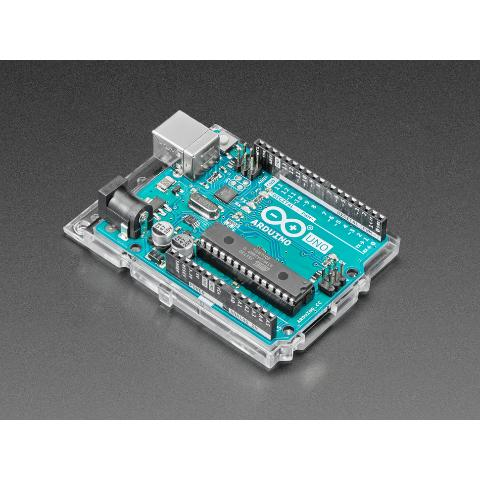Arduino-Uno: (92, 107, 388, 348)
